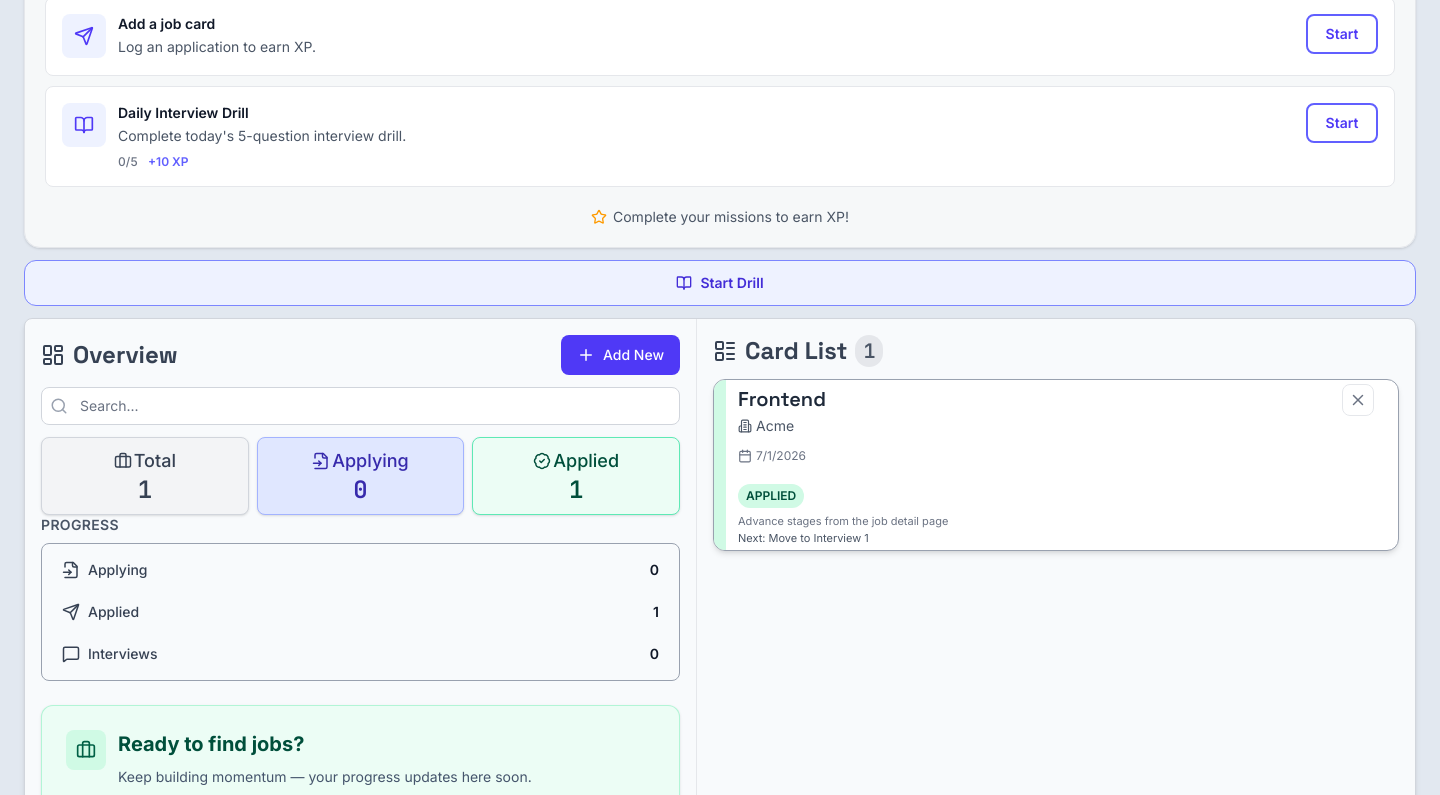
Test: DashboardClient — Card List zero-row states › shows the no-match state — never the first-job invitation — when a search matches nothing
This screenshot has width=1440, height=795.
(page scrolled)
Type "zzzz" into the field named "Search jobs". click: (372, 406)
box: [72,388,671,424]
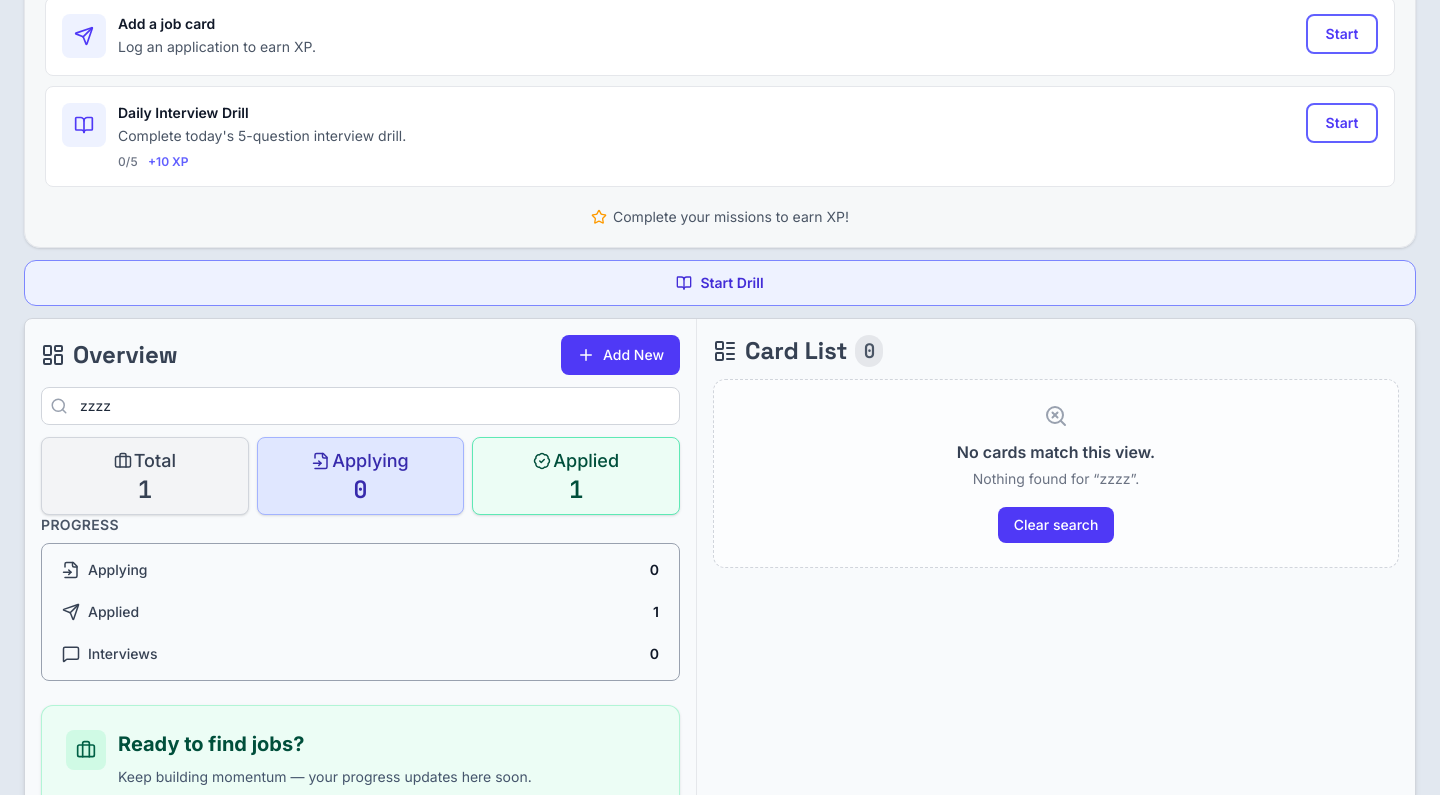
Expected: the text "No cards match this view." is shown, [957,442,1155,462]
Expected: the text "Nothing found for “zzzz”." is shown, [973,470,1139,487]
